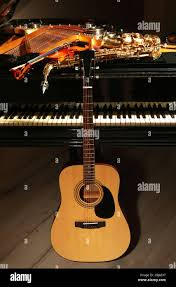Piano: (1, 90, 171, 169)
Saxophone: (34, 34, 176, 98)
Violin: (7, 31, 105, 86)
